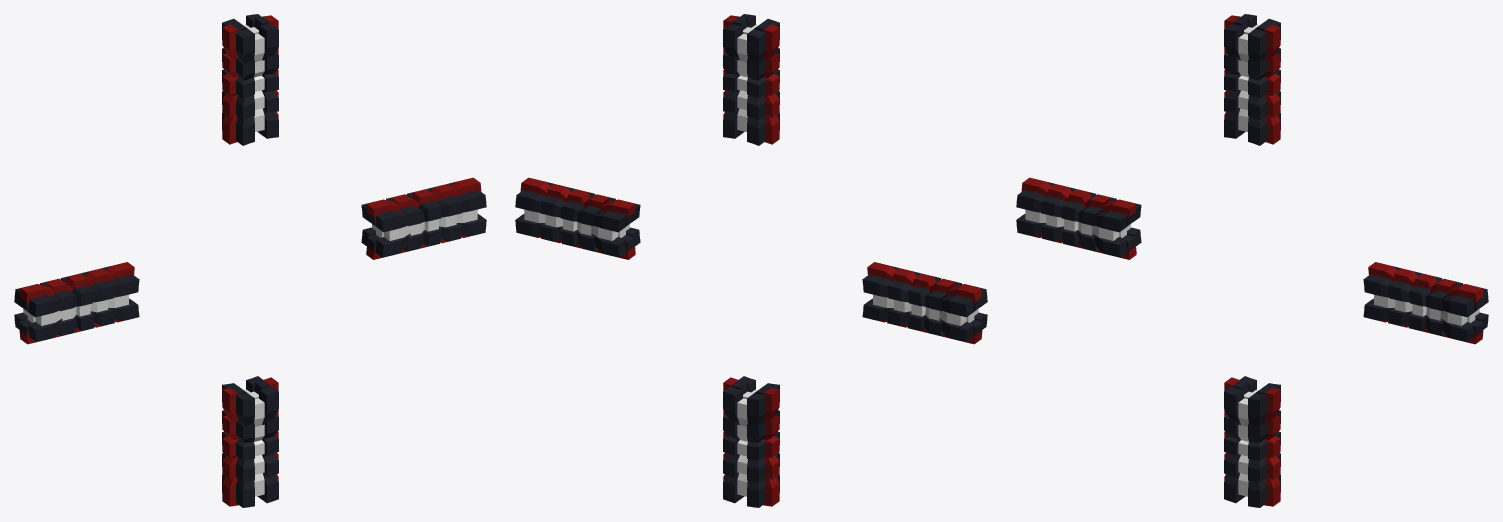
Rendered from LD50-Obstacle-Out-Tower-Four-01.glb.
The picture shows the model from 3 angles, left to right: view 1: azimuth 30°, elevation 25°; view 2: azimuth 150°, elevation 25°; view 3: azimuth 330°, elevation 25°; orthographic projection.
Visible parts, largest first — view 1: Obstacle-Out-Tower-Four; view 2: Obstacle-Out-Tower-Four; view 3: Obstacle-Out-Tower-Four.
Part boxes in pixels (left/top/right/bottom): Obstacle-Out-Tower-Four: left=14, top=14, right=486, bottom=507; Obstacle-Out-Tower-Four: left=515, top=14, right=987, bottom=507; Obstacle-Out-Tower-Four: left=1016, top=14, right=1488, bottom=507.
Bounding box in the file's own units: 59.75 × 59.75 × 4.76.
2 materials, 1 textured.
